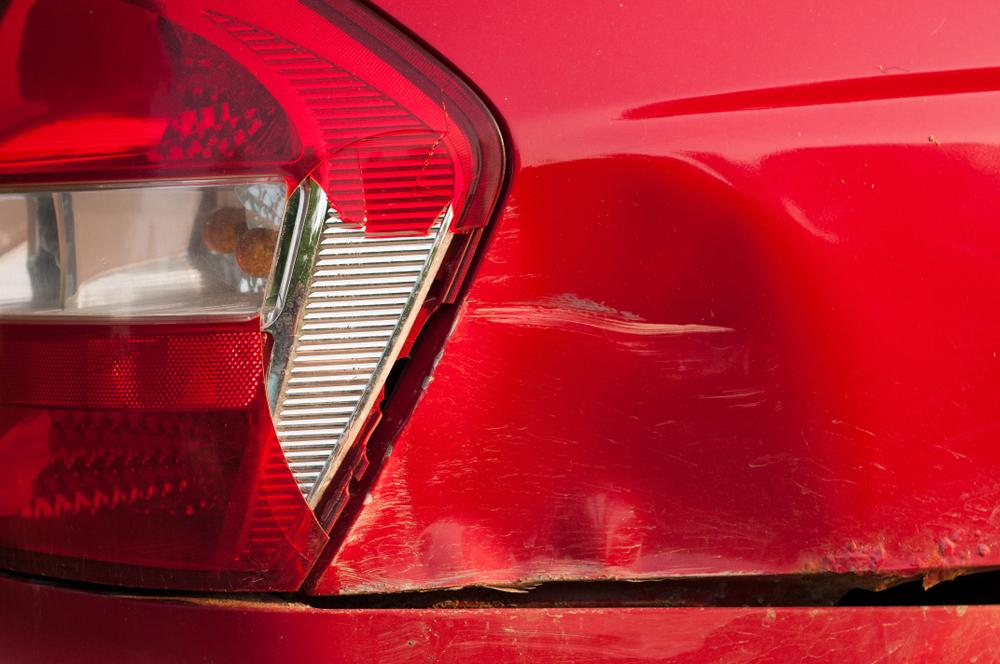dent: (315, 149, 834, 594)
lamp broken: (0, 0, 522, 594)
